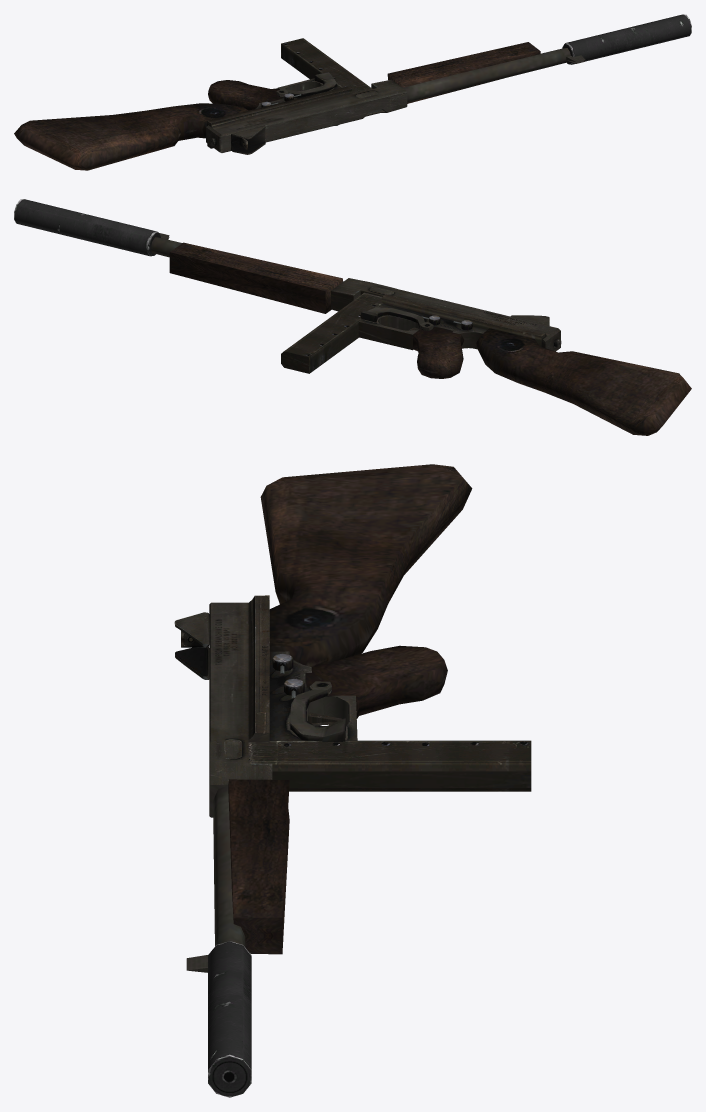
File: weapon_usa_thompson_smg_silent_LOD11.obj
3 renders of one model, top to bottom at view 1: azimuth 30°, elevation 25°; view 2: azimuth 150°, elevation 25°; view 3: azimuth 270°, elevation 25°, orthographic. The views are drawn at different scales.
Visible parts, largest first — view 1: TomGroup_0, TomGroup_1, TomGroup_2; view 2: TomGroup_1, TomGroup_0, TomGroup_2; view 3: TomGroup_1, TomGroup_0, TomGroup_2.
Part boxes in pixels (<box>): TomGroup_0: <box>206,38,585,154</box>; TomGroup_1: <box>14,42,540,170</box>; TomGroup_2: <box>562,14,691,64</box>; TomGroup_1: <box>169,242,691,435</box>; TomGroup_0: <box>151,233,561,373</box>; TomGroup_2: <box>14,199,160,256</box>; TomGroup_1: <box>228,464,472,954</box>; TomGroup_0: <box>174,595,531,972</box>; TomGroup_2: <box>208,941,251,1097</box>.
Size of the model in its own units: 106 by 4.56 by 26.47.
Materials: 2 (2 with a texture image).
